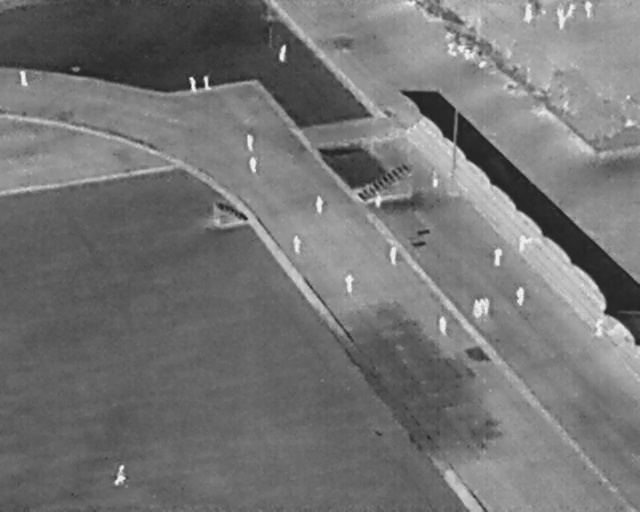DontCare: (523, 2, 579, 32), (446, 41, 490, 70)
Person: (114, 465, 128, 487), (593, 318, 606, 338), (437, 316, 448, 337), (494, 246, 504, 267), (388, 245, 398, 266), (344, 273, 354, 294), (515, 287, 525, 306), (315, 194, 324, 215), (293, 235, 302, 255), (19, 70, 29, 87), (583, 2, 593, 19), (472, 300, 480, 319), (432, 170, 440, 189), (279, 44, 287, 62), (247, 134, 255, 152), (248, 157, 257, 173), (189, 76, 197, 93), (483, 298, 490, 317), (203, 75, 211, 91), (375, 191, 382, 207), (479, 298, 485, 315)
